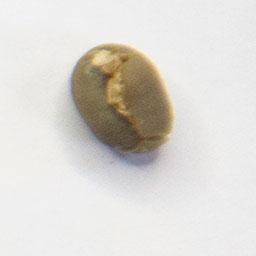peaberry: (66, 39, 178, 159)
